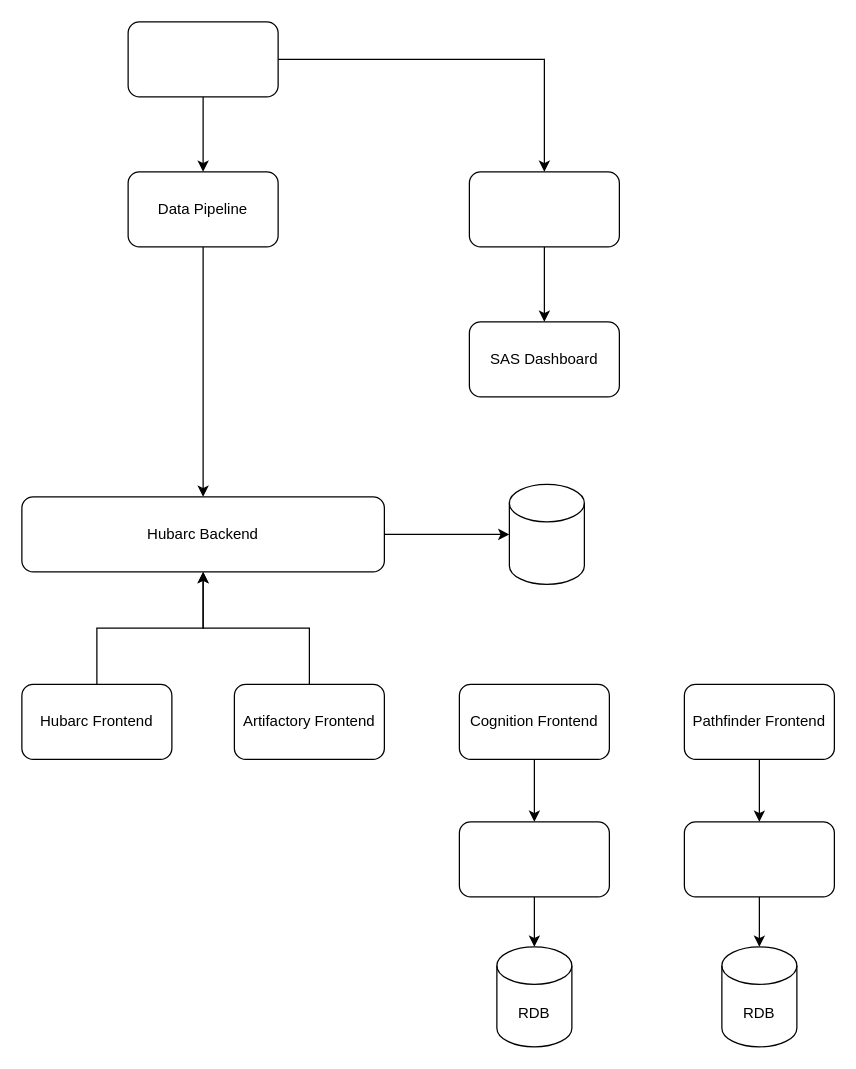
The diagram is 856 pixels wide and 1069 high, and some of its shapes have lost their labels. The centre of each missing label's shape, as x and y in pixels:
"Cognition Backend" belongs at (533,859).
"Data Sources" belongs at (202,59).
"Graph Db" belongs at (546,533).
"Pathfinder Backend" belongs at (758,859).
"SAS Pipeline" belongs at (543,209).
